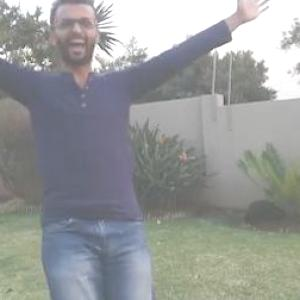takeoff: (1, 0, 267, 299)
